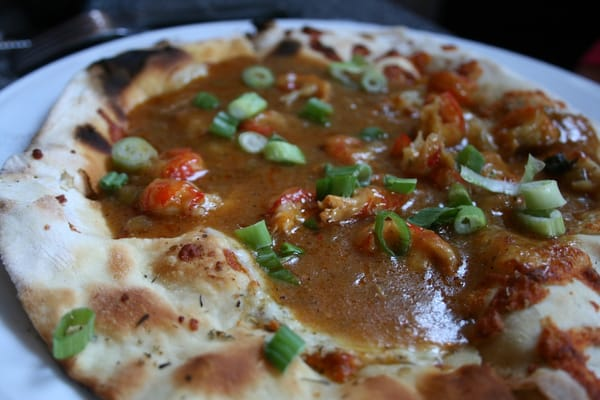sandwich: (3, 20, 600, 392)
